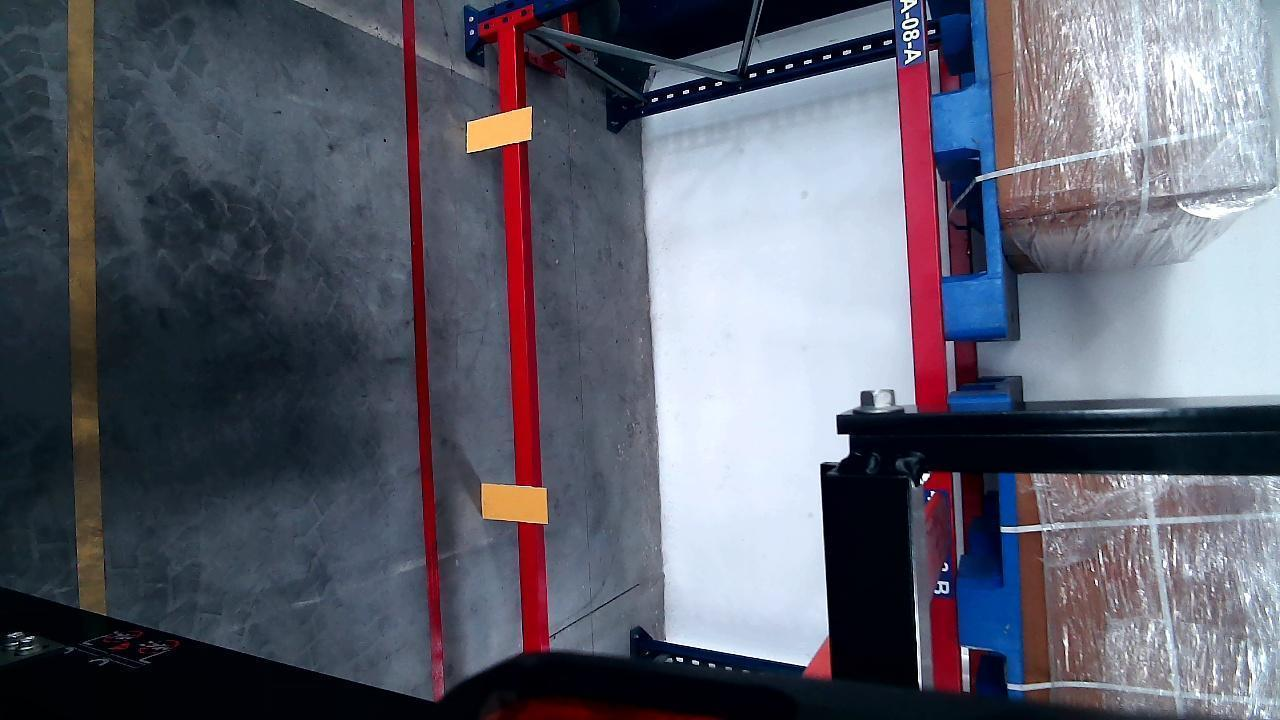red_line: (403, 5, 441, 696)
yellow_line: (66, 0, 102, 614)
